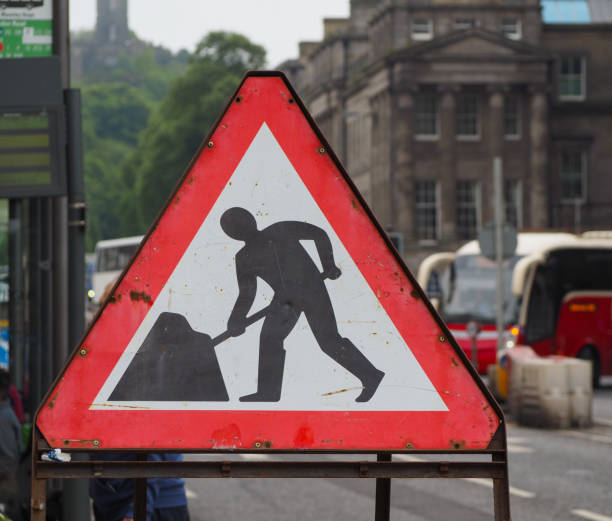yol_calismasi_levha: (37, 63, 509, 469)
